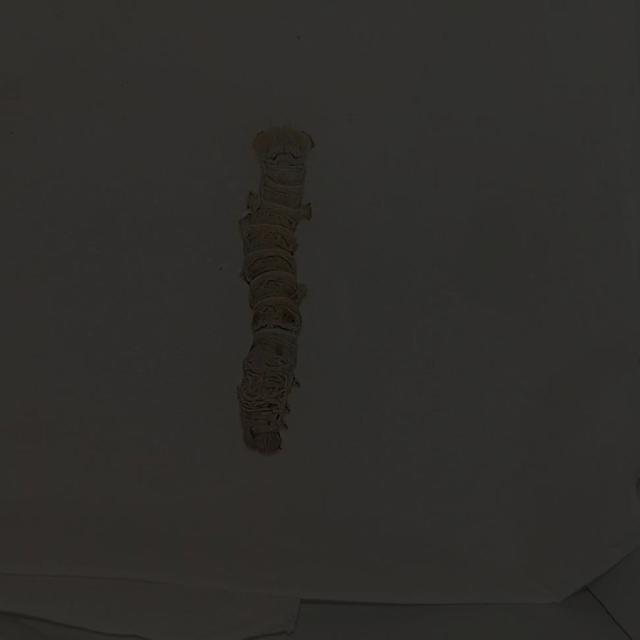Healthy: (198, 98, 377, 490)
